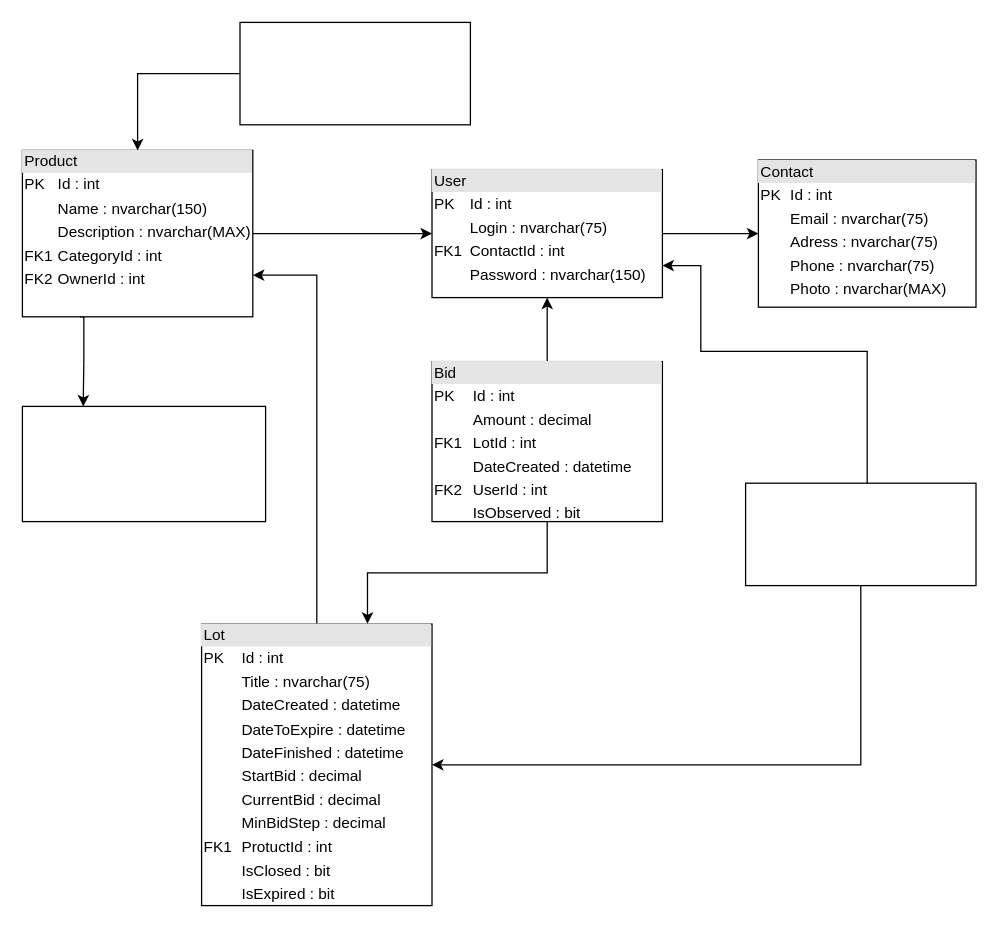
The diagram is 998 pixels wide and 928 high, and some of its shapes have lost their labels. The shapes that lost their labels are listed below. From the top down, each one's centre as x and y in pixels, then its label:
At (x=354, y=73): "ProductContent PK Id Content : nvarchar(MAX) FK1 ProductId : int".
At (x=143, y=463): "Category PK Id : int Name : nvarchar(75) Description : nvarchar(MAX)".
At (x=860, y=534): "UserLot PK Id FK1 UserId : int FK2 LotId : int".
